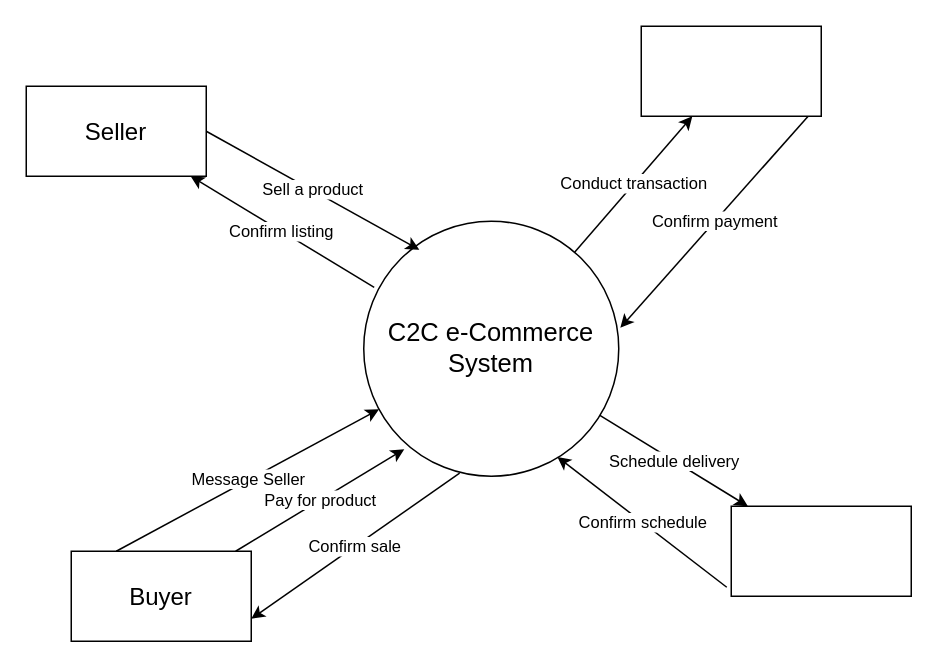
Image size: 938x668. Some labels were removed from this diagram. Each missing label, with the centre of its shape:
"Delivery Service" goes at (820,550).
"Payment Gateway" goes at (730,70).
